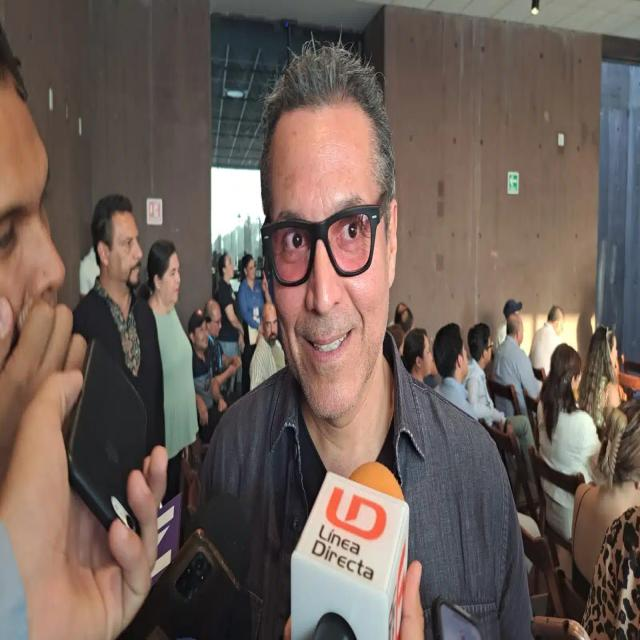glasses: (259, 192, 392, 290)
